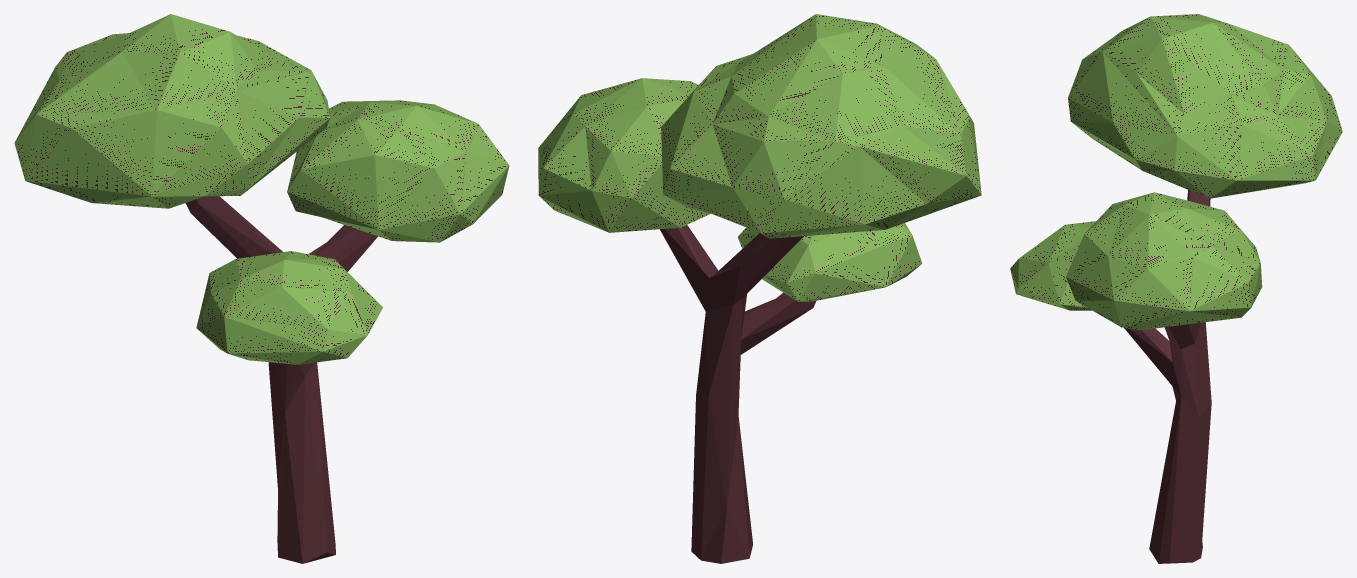
File: tree_branched.fbx
3 renders of one model, left to right at view 1: azimuth 30°, elevation 25°; view 2: azimuth 150°, elevation 25°; view 3: azimuth 270°, elevation 25°, orthographic. The views are drawn at different scales.
Parts seen in each view (by area): view 1: leaves_Icosphere, trunk_Cube; view 2: leaves_Icosphere, trunk_Cube; view 3: leaves_Icosphere, trunk_Cube.
Boxes of the visible parts, x1=… form: leaves_Icosphere: x1=14, y1=14, x2=509, y2=364; trunk_Cube: x1=185, y1=196, x2=377, y2=563; leaves_Icosphere: x1=538, y1=14, x2=981, y2=302; trunk_Cube: x1=660, y1=225, x2=816, y2=563; leaves_Icosphere: x1=1010, y1=14, x2=1342, y2=330; trunk_Cube: x1=1124, y1=190, x2=1211, y2=563.
Size of the model in its own units: 7.34 by 8.72 by 5.43.
1 material, 1 textured.
